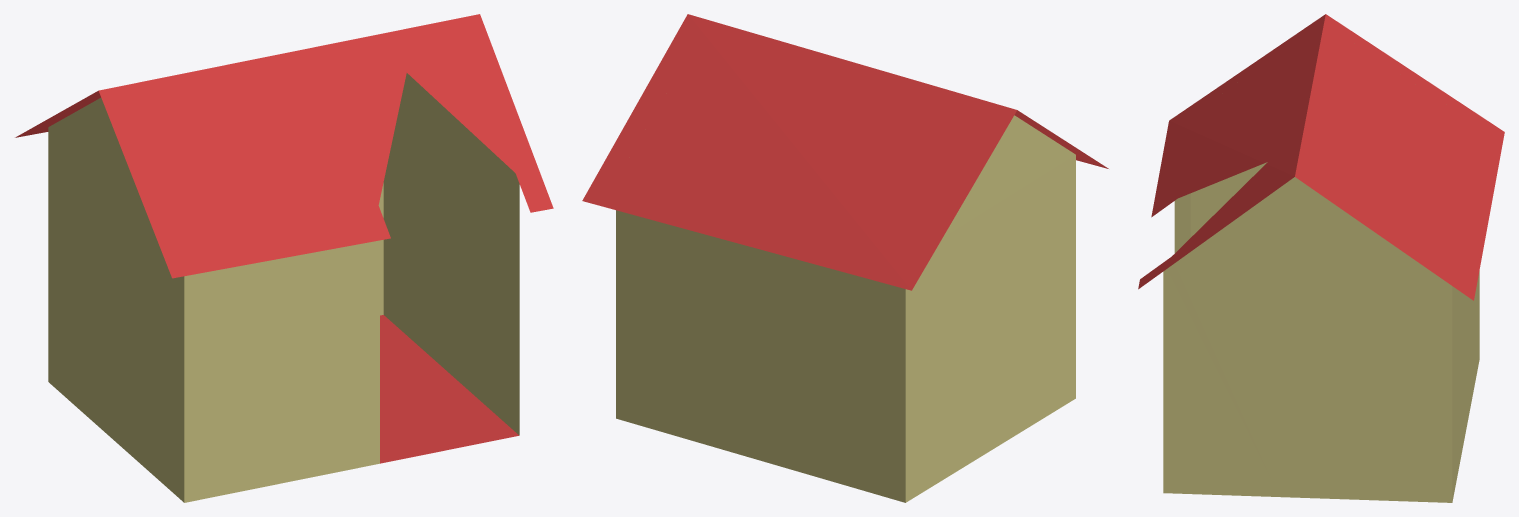
The picture shows the model from 3 angles, left to right: view 1: azimuth 30°, elevation 25°; view 2: azimuth 150°, elevation 25°; view 3: azimuth 270°, elevation 25°; orthographic projection. The views are drawn at different scales.
Bounding box in the file's own units: 13.16 × 11.71 × 11.65.
